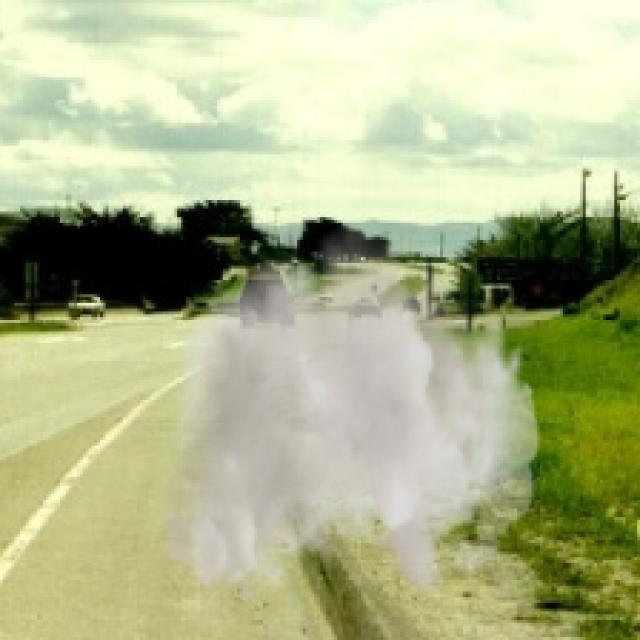smoke: (160, 205, 540, 606)
